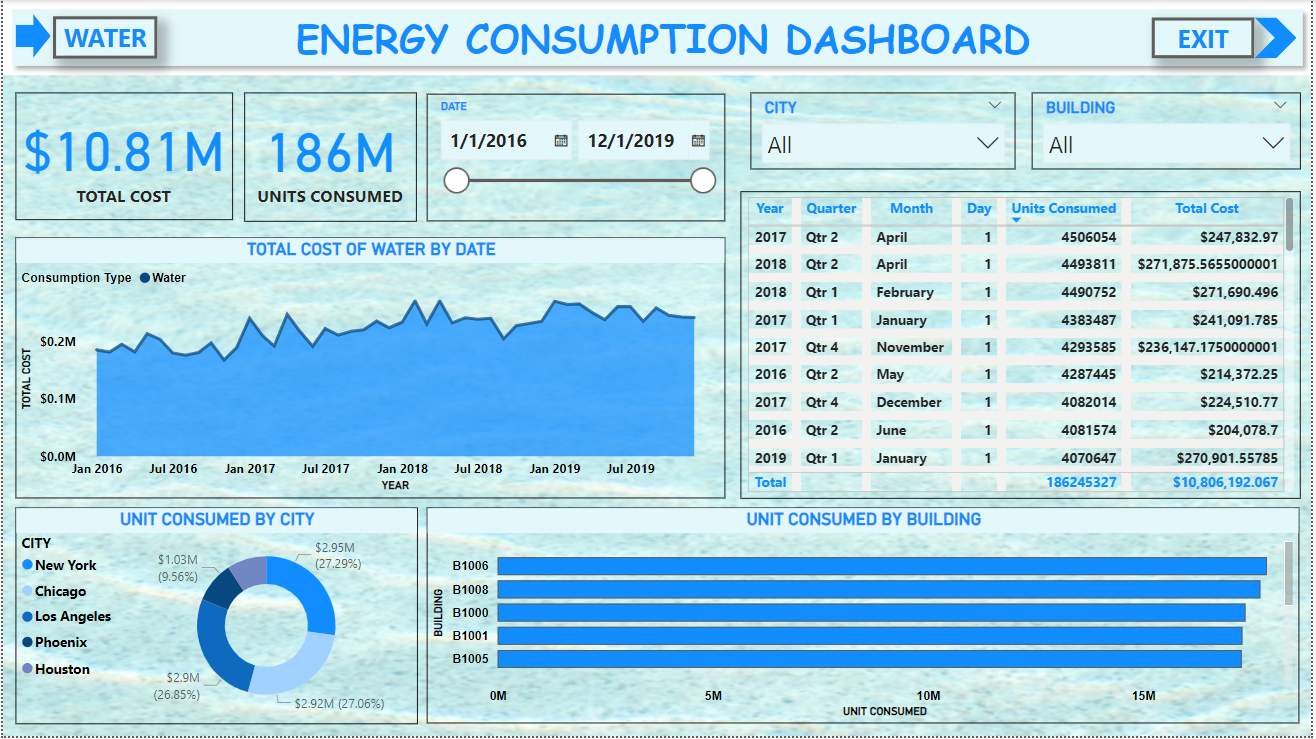

The page's visual inventory and layout, read from the dashboard file:
{"tool":"powerbi","page":{"name":"WATER","canvas":[1280,720],"ordinal":1},"visuals":[{"type":"shape","box":[0,0,1280.3,73.4],"z":0},{"type":"textbox","box":[274.6,5.7,741.1,68.3],"z":1000},{"type":"card","fields":{"Values":["Energy Consumptions.Total Cost"]},"box":[12.3,90.6,212.7,124.9],"z":2000},{"type":"card","fields":{"Values":["Energy Consumptions.Units Consumed"]},"box":[236,90.6,168.8,126.2],"z":3000},{"type":"slicer","fields":{"Values":["Building Master.Building"]},"box":[1005.8,90.6,263.5,75.5],"z":5000},{"type":"slicer","fields":{"Values":["Building Master.City"]},"box":[731.4,90.6,259.3,75.5],"z":6000},{"type":"slicer","fields":{"Values":["Energy Consumptions.Date"]},"box":[414.4,91.9,292.3,124.9],"z":7000},{"type":"areaChart","title":"TOTAL COST OF WATER BY DATE","fields":{"Category":["Energy Consumptions.Date.Variation.Date Hierarchy.Year","Energy Consumptions.Date.Variation.Date Hierarchy.Quarter","Energy Consumptions.Date.Variation.Date Hierarchy.Month","Energy Consumptions.Date.Variation.Date Hierarchy.Day"],"Series":["Energy Consumptions.Consumption Type"],"Y":["Energy Consumptions.Total Cost"]},"box":[12.3,231.9,694.3,255.2],"z":8000},{"type":"tableEx","fields":{"Values":["Energy Consumptions.Date.Variation.Date Hierarchy.Year","Energy Consumptions.Date.Variation.Date Hierarchy.Quarter","Energy Consumptions.Date.Variation.Date Hierarchy.Month","Energy Consumptions.Date.Variation.Date Hierarchy.Day","Energy Consumptions.Units Consumed","Energy Consumptions.Total Cost"]},"box":[721.5,187,547.7,300.4],"z":9000},{"type":"donutChart","title":"UNIT CONSUMED BY CITY","fields":{"Y":["Energy Consumptions.Total Cost"],"Category":["Building Master.City"]},"box":[12.1,497.1,393.3,212.3],"z":10000},{"type":"clusteredBarChart","title":"UNIT CONSUMED BY BUILDING","fields":{"Category":["Energy Consumptions.Building"],"Y":["Energy Consumptions.Units Consumed"]},"box":[414.5,496.5,853.5,211.6],"z":11000},{"type":"actionButton","box":[48.5,15.6,102.2,41.6],"z":13000},{"type":"actionButton","box":[1123.8,17.3,100.4,39.8],"z":14000},{"type":"shape","box":[1224.3,17.3,41.6,39.8],"z":15000},{"type":"shape","box":[12.1,13.9,34.6,43.3],"z":16000}]}

Visuals, with their boxes in screenshot pixels (x1, y1, x2, y2), scaled from the page's 1280x720 canvas onto the 1316x739 screenshot:
shape: l=0, t=0, r=1315, b=75
textbox: l=282, t=6, r=1044, b=76
card - Energy Consumptions.Total Cost: l=13, t=93, r=231, b=221
card - Energy Consumptions.Units Consumed: l=243, t=93, r=416, b=223
slicer - Building Master.Building: l=1034, t=93, r=1305, b=170
slicer - Building Master.City: l=752, t=93, r=1019, b=170
slicer - Energy Consumptions.Date: l=426, t=94, r=727, b=223
"TOTAL COST OF WATER BY DATE" areaChart: l=13, t=238, r=726, b=500
tableEx - Energy Consumptions.Date.Variation.Date Hierarchy.Year x Energy Consumptions.Date.Variation.Date Hierarchy.Quarter: l=742, t=192, r=1305, b=500
"UNIT CONSUMED BY CITY" donutChart: l=12, t=510, r=417, b=728
"UNIT CONSUMED BY BUILDING" clusteredBarChart: l=426, t=510, r=1304, b=727
actionButton: l=50, t=16, r=155, b=59
actionButton: l=1155, t=18, r=1259, b=59
shape: l=1259, t=18, r=1302, b=59
shape: l=12, t=14, r=48, b=59
